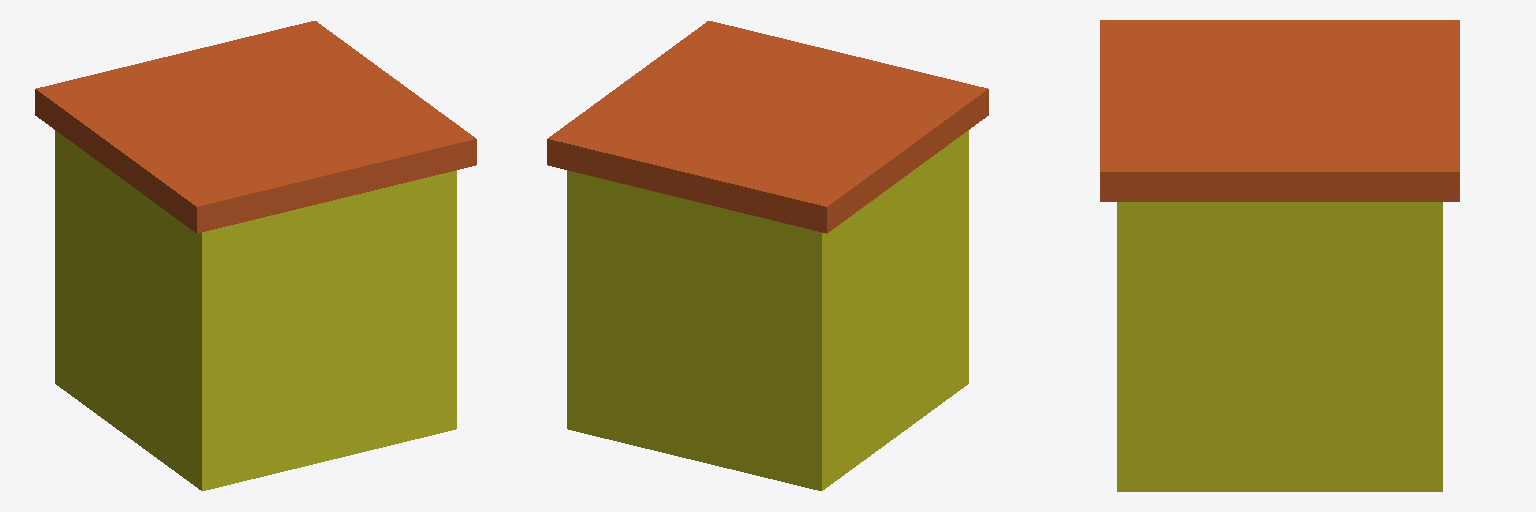
robot.urdf — container_closed:
<?xml version="1.0"?>
<robot name="container_closed">
  <material name="box_mat">
    <color rgba="0.8 0.8 0.2 1.0"/>
  </material>
  <material name="lid_mat">
    <color rgba="0.8 0.4 0.2 1.0"/>
  </material>

  <link name="base_link">
    <inertial>
      <mass value="0.6"/>
      <origin xyz="0 0 0.1" rpy="0 0 0"/>
      <inertia ixx="0.006" ixy="0" ixz="0" iyy="0.006" iyz="0" izz="0.006"/>
    </inertial>
    
    <!-- Bottom -->
    <visual><origin xyz="0 0 0.005" rpy="0 0 0"/><geometry><box size="0.2 0.2 0.01"/></geometry><material name="box_mat"/></visual>
    <collision><origin xyz="0 0 0.005" rpy="0 0 0"/><geometry><box size="0.2 0.2 0.01"/></geometry></collision>

    <!-- Front -->
    <visual><origin xyz="0 0.095 0.1" rpy="0 0 0"/><geometry><box size="0.2 0.01 0.2"/></geometry><material name="box_mat"/></visual>
    <collision><origin xyz="0 0.095 0.1" rpy="0 0 0"/><geometry><box size="0.2 0.01 0.2"/></geometry></collision>

    <!-- Back -->
    <visual><origin xyz="0 -0.095 0.1" rpy="0 0 0"/><geometry><box size="0.2 0.01 0.2"/></geometry><material name="box_mat"/></visual>
    <collision><origin xyz="0 -0.095 0.1" rpy="0 0 0"/><geometry><box size="0.2 0.01 0.2"/></geometry></collision>

    <!-- Left -->
    <visual><origin xyz="-0.095 0 0.1" rpy="0 0 0"/><geometry><box size="0.01 0.18 0.2"/></geometry><material name="box_mat"/></visual>
    <collision><origin xyz="-0.095 0 0.1" rpy="0 0 0"/><geometry><box size="0.01 0.18 0.2"/></geometry></collision>

    <!-- Right -->
    <visual><origin xyz="0.095 0 0.1" rpy="0 0 0"/><geometry><box size="0.01 0.18 0.2"/></geometry><material name="box_mat"/></visual>
    <collision><origin xyz="0.095 0 0.1" rpy="0 0 0"/><geometry><box size="0.01 0.18 0.2"/></geometry></collision>
  </link>

  <link name="lid_link">
    <visual>
      <origin xyz="0 0 0" rpy="0 0 0"/>
      <geometry><box size="0.22 0.22 0.02"/></geometry>
      <material name="lid_mat"/>
    </visual>
    <collision>
      <origin xyz="0 0 0" rpy="0 0 0"/>
      <geometry><box size="0.22 0.22 0.02"/></geometry>
    </collision>
  </link>

  <joint name="lid_joint" type="fixed">
    <parent link="base_link"/>
    <child link="lid_link"/>
    <origin xyz="0 0 0.21" rpy="0 0 0"/>
  </joint>
</robot>

--- What the picture shows (computed from the rendered views, not written in the file) ---
Views: 3 orthographic renders of the robot side by side, from view 1: azimuth 30°, elevation 25°; view 2: azimuth 150°, elevation 25°; view 3: azimuth 270°, elevation 25°.
Robot: container_closed — 2 links, 1 joints (1 fixed); root link base_link; default pose: all joints at 0.
Links seen in each view (by area): view 1: base_link, lid_link; view 2: base_link, lid_link; view 3: base_link, lid_link.
Link boxes in pixels (left/top/right/bottom): base_link: left=55, top=130, right=456, bottom=490; lid_link: left=35, top=21, right=476, bottom=233; base_link: left=567, top=130, right=968, bottom=490; lid_link: left=547, top=21, right=988, bottom=233; base_link: left=1117, top=202, right=1442, bottom=491; lid_link: left=1100, top=20, right=1459, bottom=201.
Size in the robot's own frame: 0.22 by 0.22 by 0.22 metres.
Geometry: primitives only (box / cylinder / sphere), no mesh files.
